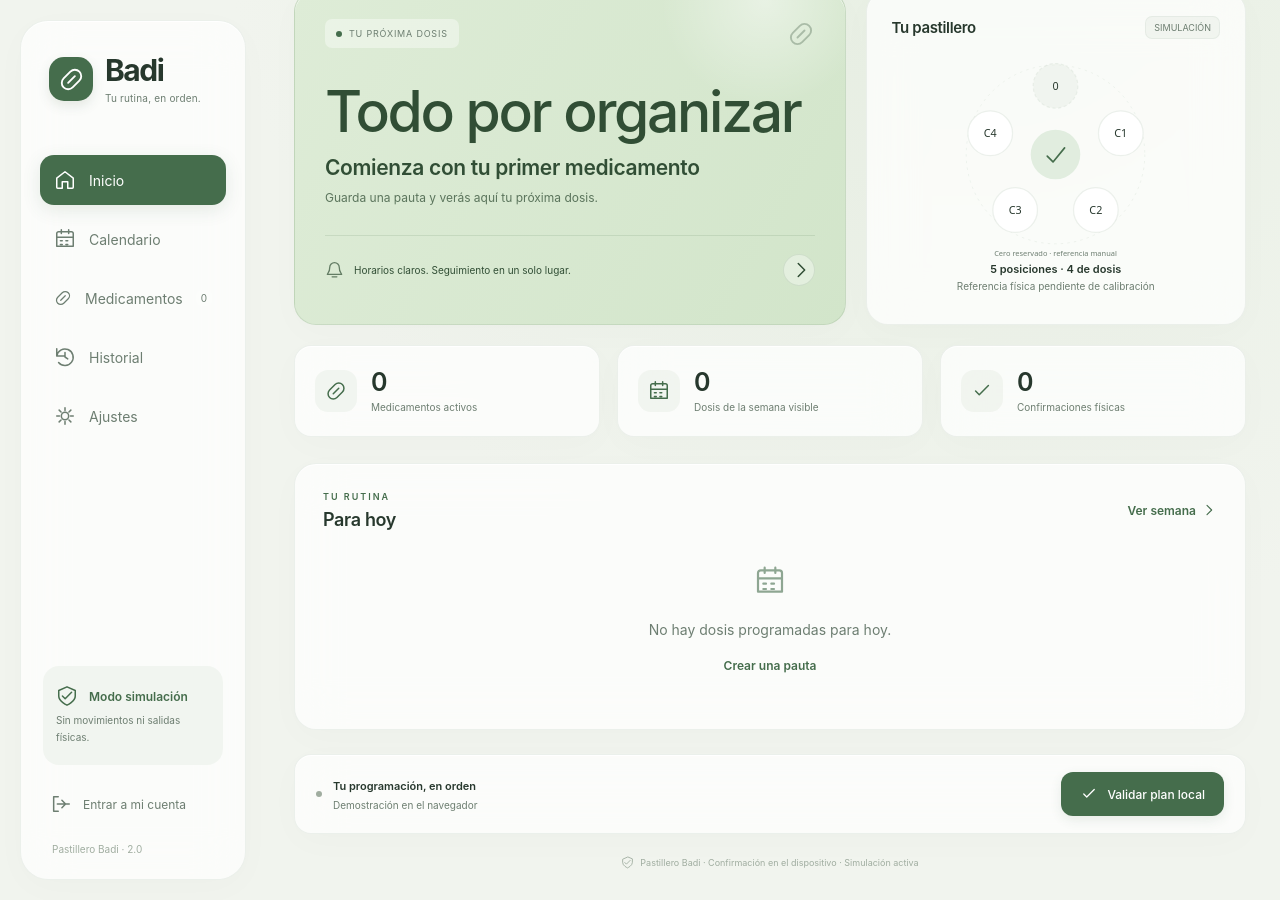
Test: la publicación en navegador no se presenta como Firebase
(page scrolled)
Click the button "Validar plan local" at coordinates (1143, 794), box x1=1061 y1=772 x2=1224 y2=816
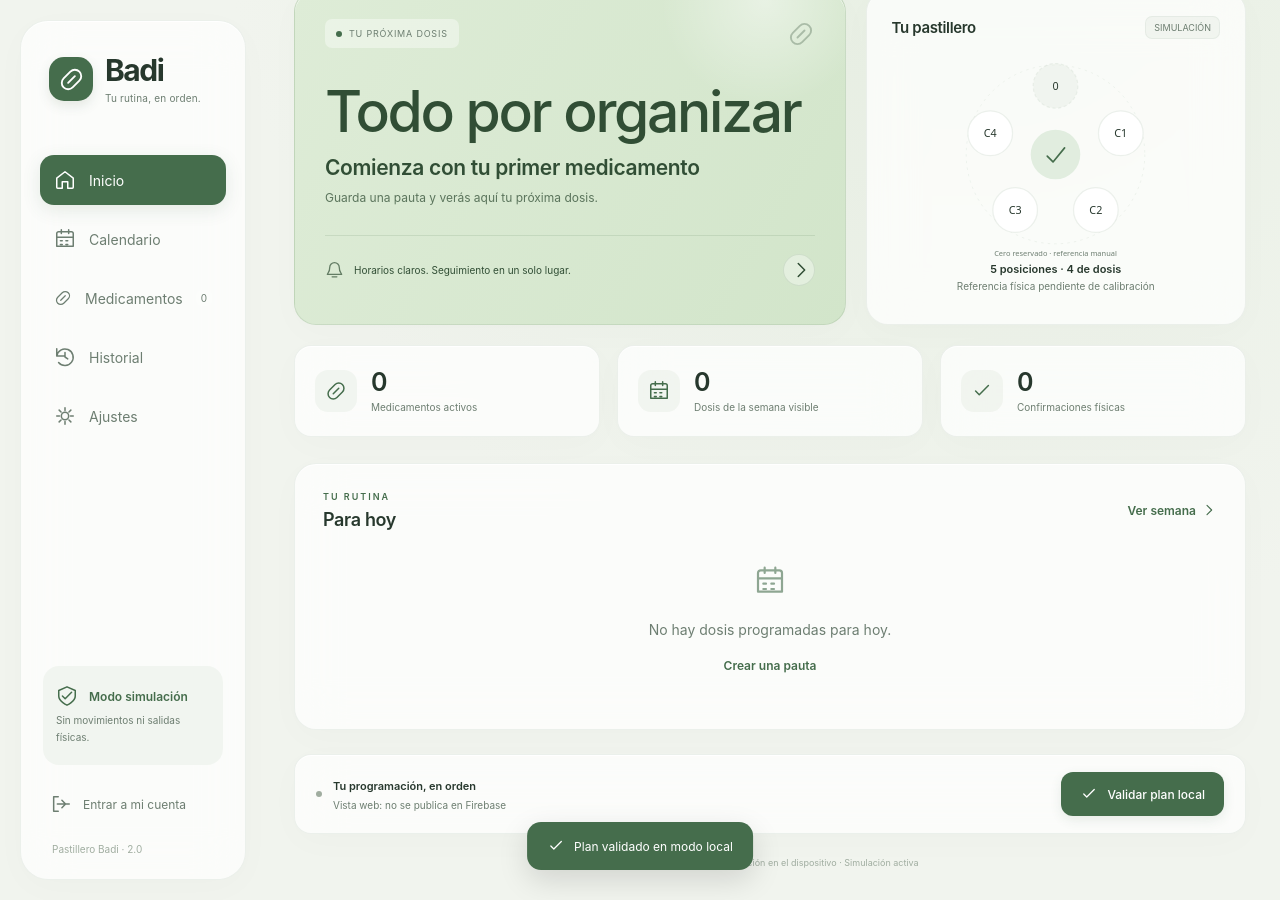
expect the text "Vista web: no se publica en Firebase" is shown: met, box x1=333 y1=797 x2=506 y2=813
